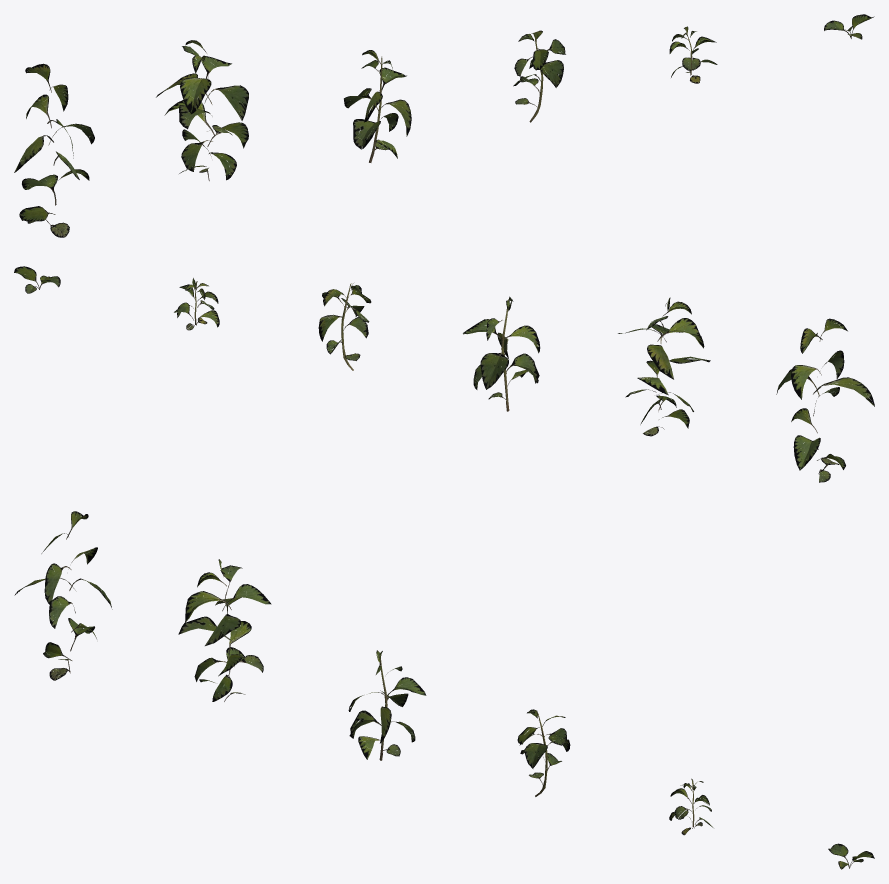
File: nettle_plant_leaf.glb
3 views of the same model, one above another, from view 1: azimuth 30°, elevation 25°; view 2: azimuth 150°, elevation 25°; view 3: azimuth 330°, elevation 25° (orthographic). The views are drawn at different scales.
Parts seen in each view (by area): view 1: nettle_plant_tall_b_LOD0, nettle_plant_tall_a_LOD0, nettle_plant_medium_a_LOD0, nettle_plant_medium_b_LOD0, nettle_plant_small_a_LOD0; view 2: nettle_plant_tall_a_LOD0, nettle_plant_medium_a_LOD0, nettle_plant_tall_b_LOD0, nettle_plant_medium_b_LOD0, nettle_plant_small_a_LOD0, nettle_plant_small_b_LOD0; view 3: nettle_plant_tall_b_LOD0, nettle_plant_tall_a_LOD0, nettle_plant_medium_a_LOD0, nettle_plant_medium_b_LOD0.
Part boxes in pixels (x1,y1,x2,y2): nettle_plant_tall_b_LOD0: (156, 40, 248, 181); nettle_plant_tall_a_LOD0: (14, 63, 94, 237); nettle_plant_medium_a_LOD0: (344, 50, 411, 162); nettle_plant_medium_b_LOD0: (513, 30, 565, 122); nettle_plant_small_a_LOD0: (669, 26, 717, 83); nettle_plant_tall_a_LOD0: (776, 318, 874, 482); nettle_plant_medium_a_LOD0: (463, 296, 540, 411); nettle_plant_tall_b_LOD0: (618, 297, 710, 436); nettle_plant_medium_b_LOD0: (318, 283, 371, 370); nettle_plant_small_a_LOD0: (174, 278, 219, 330); nettle_plant_small_b_LOD0: (14, 266, 60, 293); nettle_plant_tall_b_LOD0: (178, 559, 271, 701); nettle_plant_tall_a_LOD0: (14, 511, 112, 680); nettle_plant_medium_a_LOD0: (348, 650, 426, 760); nettle_plant_medium_b_LOD0: (517, 709, 570, 796).
Bounding box in the file's own units: 1.09 × 0.2005 × 0.1115.
Materials: 1 (1 with a texture image).
